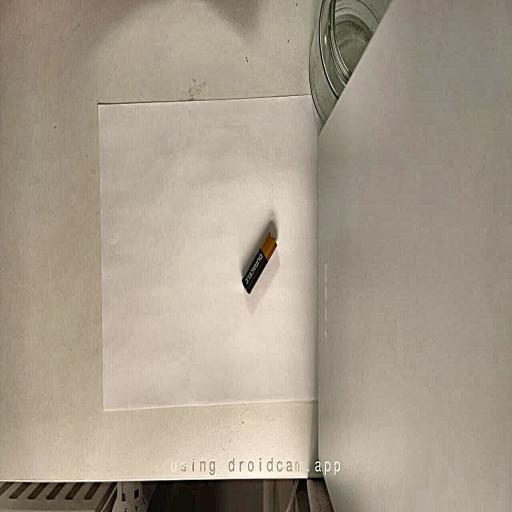DuracellAA: (242, 232, 276, 292)
